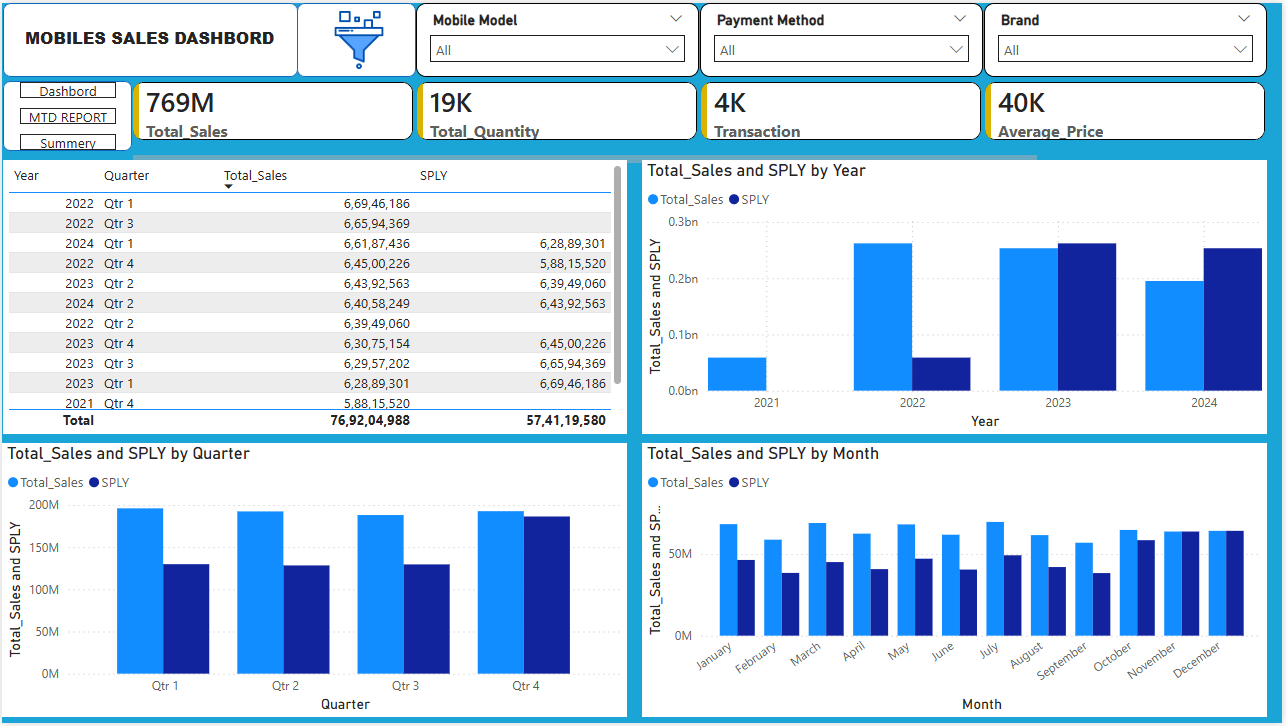

This screenshot's page, from the dashboard's own definition file:
{"tool":"powerbi","page":{"name":"Same Period Last Year","canvas":[1280,720],"ordinal":2},"visuals":[{"type":"shape","box":[1,0,294.7,73.9],"z":0},{"type":"shape","box":[0.9,78.2,129.1,70],"z":1000},{"type":"cardVisual","fields":{"Data":["Mobile_Sales_Data.Total_Sales","Mobile_Sales_Data.Total_Quantity","Mobile_Sales_Data.Transaction","Mobile_Sales_Data.Average_Price","Mobile_Sales_Data.SPLY"]},"box":[113.6,61.8,1166.4,105.5],"z":2000},{"type":"slicer","fields":{"Values":["Mobile_Sales_Data.Mobile Model"]},"box":[413.9,0,282.8,73.6],"z":3000},{"type":"shape","box":[295.4,0,118.4,73.6],"z":4000},{"type":"slicer","fields":{"Values":["Mobile_Sales_Data.Payment Method"]},"box":[697.9,0,282.8,73.6],"z":5000},{"type":"slicer","fields":{"Values":["Mobile_Sales_Data.Brand"]},"box":[981.8,0,282.7,73.6],"z":6000},{"type":"image","box":[308,6.9,96.6,59.8],"z":7000},{"type":"textbox","box":[18.5,17.5,260.7,38.9],"z":8000},{"type":"tableEx","fields":{"Values":["Custome_Calender.Date.Variation.Date Hierarchy.Year","Custome_Calender.Date.Variation.Date Hierarchy.Quarter","Mobile_Sales_Data.Total_Sales","Mobile_Sales_Data.SPLY"]},"box":[0.9,157.3,623.6,273.6],"z":9000},{"type":"clusteredColumnChart","fields":{"Category":["Custome_Calender.Date.Variation.Date Hierarchy.Year","Custome_Calender.Date.Variation.Date Hierarchy.Quarter"],"Y":["Mobile_Sales_Data.Total_Sales","Mobile_Sales_Data.SPLY"]},"box":[640,157.3,624.5,273.6],"z":9001},{"type":"clusteredColumnChart","fields":{"Category":["Custome_Calender.Date.Variation.Date Hierarchy.Year","Custome_Calender.Date.Variation.Date Hierarchy.Quarter"],"Y":["Mobile_Sales_Data.Total_Sales","Mobile_Sales_Data.SPLY"]},"box":[0,440,624.5,273.6],"z":9002},{"type":"clusteredColumnChart","fields":{"Category":["Custome_Calender.Date.Variation.Date Hierarchy.Year","Custome_Calender.Date.Variation.Date Hierarchy.Quarter","Custome_Calender.Date.Variation.Date Hierarchy.Month"],"Y":["Mobile_Sales_Data.Total_Sales","Mobile_Sales_Data.SPLY"]},"box":[640,440,624.5,273.6],"z":9003},{"type":"pageNavigator","box":[18.2,79.1,95.5,69.1],"z":9004}]}

Visuals, with their boxes in screenshot pixels (x1, y1, x2, y2), scaled from the page's 1280x720 canvas onto the 1286x726 screenshot:
shape: {"left": 1, "top": 0, "right": 297, "bottom": 75}
shape: {"left": 1, "top": 79, "right": 131, "bottom": 149}
cardVisual - Mobile_Sales_Data.Total_Sales x Mobile_Sales_Data.Total_Quantity: {"left": 114, "top": 62, "right": 1285, "bottom": 169}
slicer - Mobile_Sales_Data.Mobile Model: {"left": 416, "top": 0, "right": 700, "bottom": 74}
shape: {"left": 297, "top": 0, "right": 416, "bottom": 74}
slicer - Mobile_Sales_Data.Payment Method: {"left": 701, "top": 0, "right": 985, "bottom": 74}
slicer - Mobile_Sales_Data.Brand: {"left": 986, "top": 0, "right": 1270, "bottom": 74}
image: {"left": 309, "top": 7, "right": 406, "bottom": 67}
textbox: {"left": 19, "top": 18, "right": 281, "bottom": 57}
tableEx - Custome_Calender.Date.Variation.Date Hierarchy.Year x Custome_Calender.Date.Variation.Date Hierarchy.Quarter: {"left": 1, "top": 159, "right": 627, "bottom": 434}
clusteredColumnChart - Custome_Calender.Date.Variation.Date Hierarchy.Year x Custome_Calender.Date.Variation.Date Hierarchy.Quarter: {"left": 643, "top": 159, "right": 1270, "bottom": 434}
clusteredColumnChart - Custome_Calender.Date.Variation.Date Hierarchy.Year x Custome_Calender.Date.Variation.Date Hierarchy.Quarter: {"left": 0, "top": 444, "right": 627, "bottom": 720}
clusteredColumnChart - Custome_Calender.Date.Variation.Date Hierarchy.Year x Custome_Calender.Date.Variation.Date Hierarchy.Quarter: {"left": 643, "top": 444, "right": 1270, "bottom": 720}
pageNavigator: {"left": 18, "top": 80, "right": 114, "bottom": 149}
